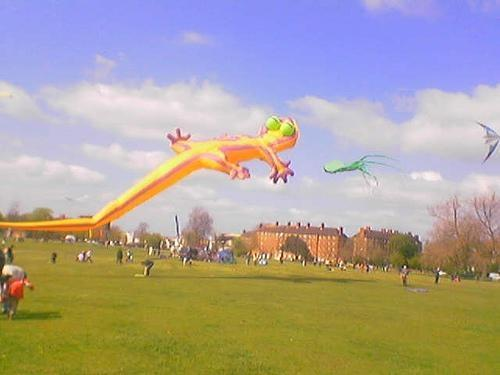car: (489, 274, 500, 281)
